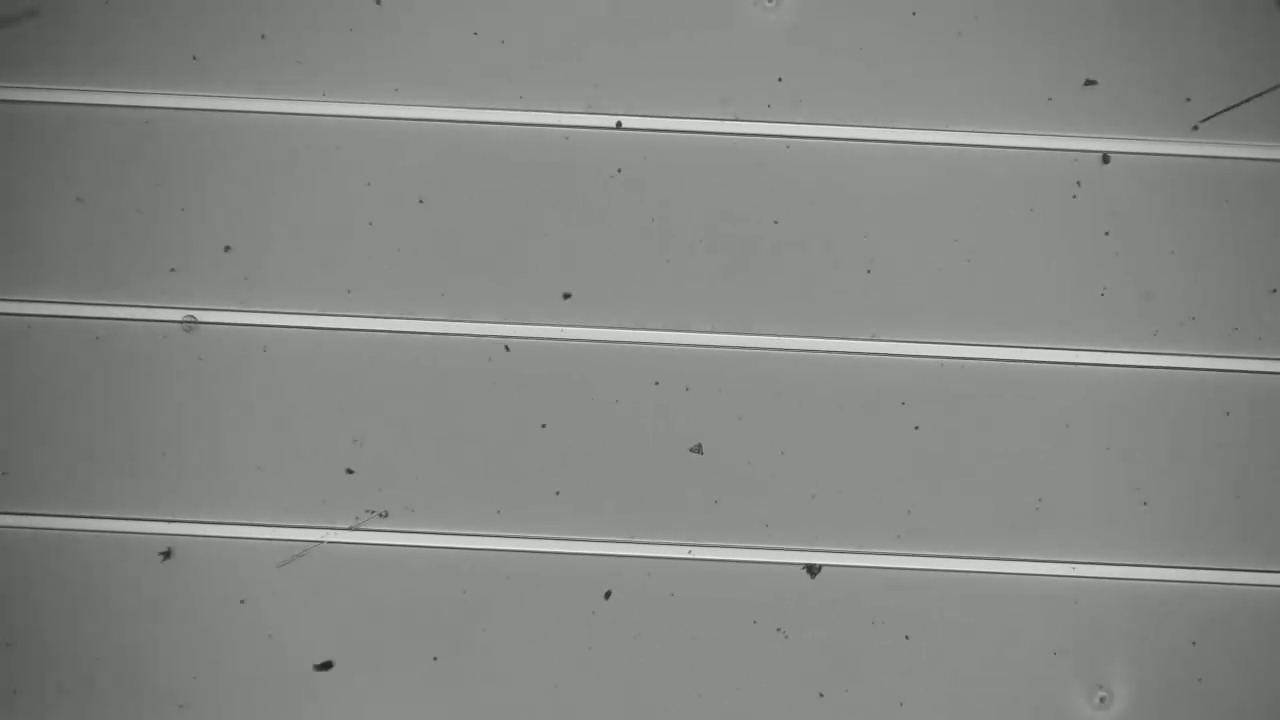scratch: (1187, 77, 1280, 125)
